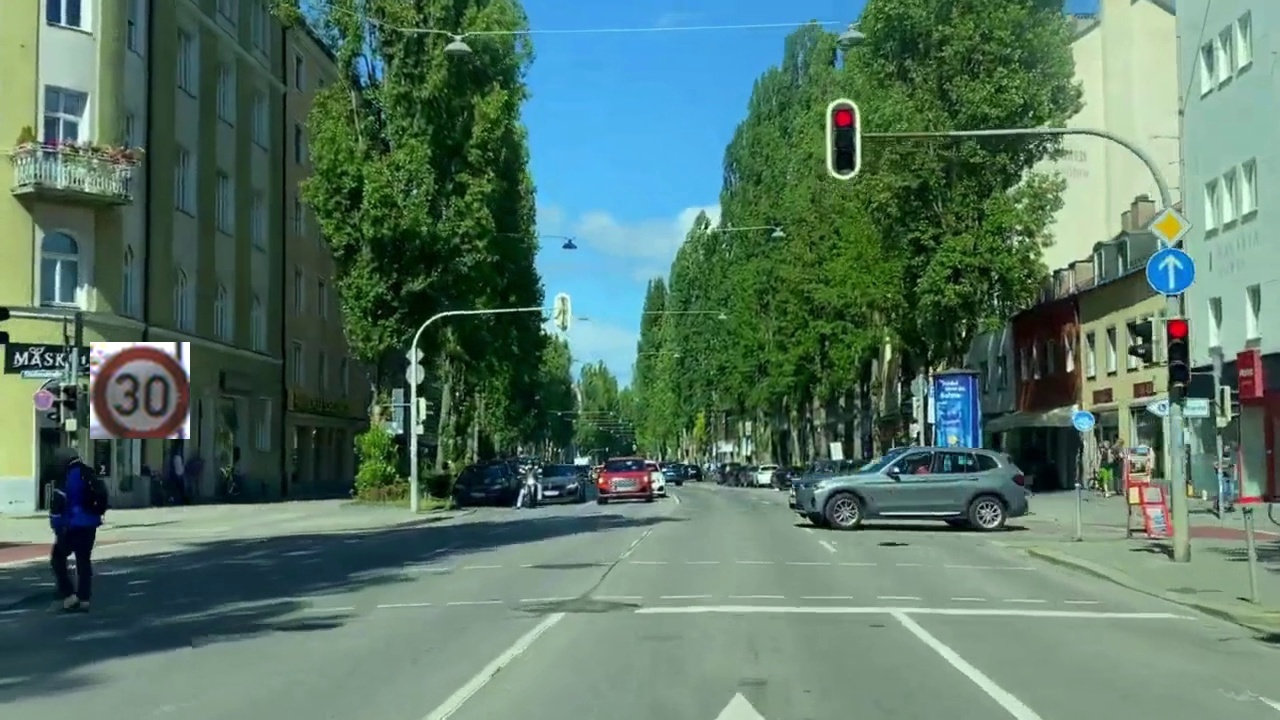Speed 30: (90, 342, 190, 439)
